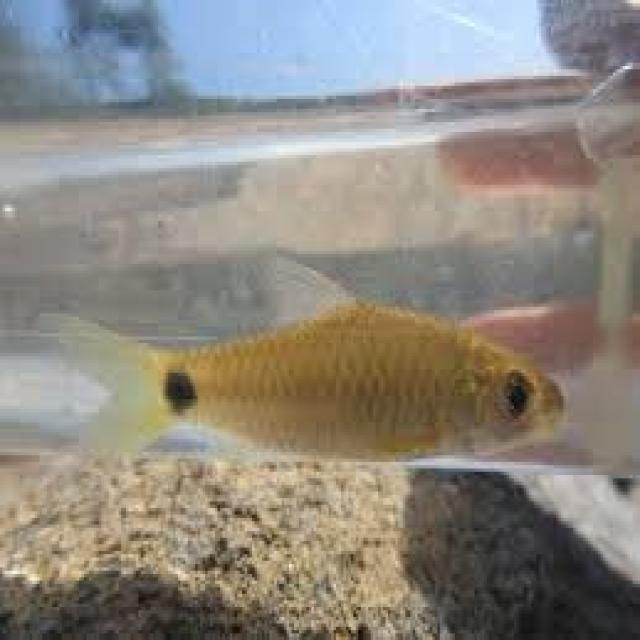Black-Spotted-Barb: (17, 188, 597, 526)
